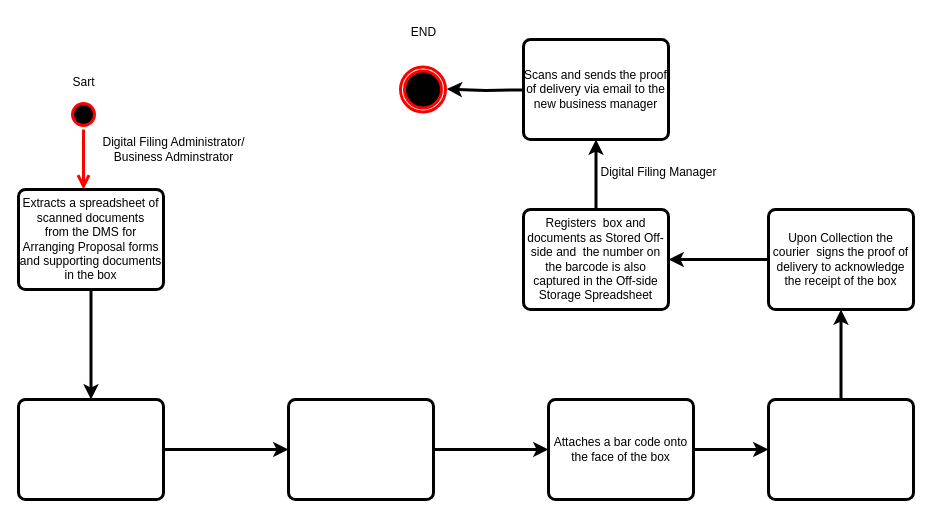
The diagram is 932 pixels wide and 518 high, and some of its shapes have lost their labels. Here are the shapes that lost their labels. From the top down, the centre of each, then its label:
At [90,449]: "Arranges and Packages Proposal forms".
At [360,449]: "Fills in the document information sheet and puts it inside the box and seals".
At [840,449]: "Contacts the courier for box collection".
